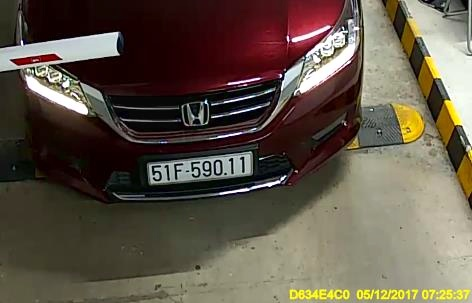plate: (145, 151, 255, 187)
